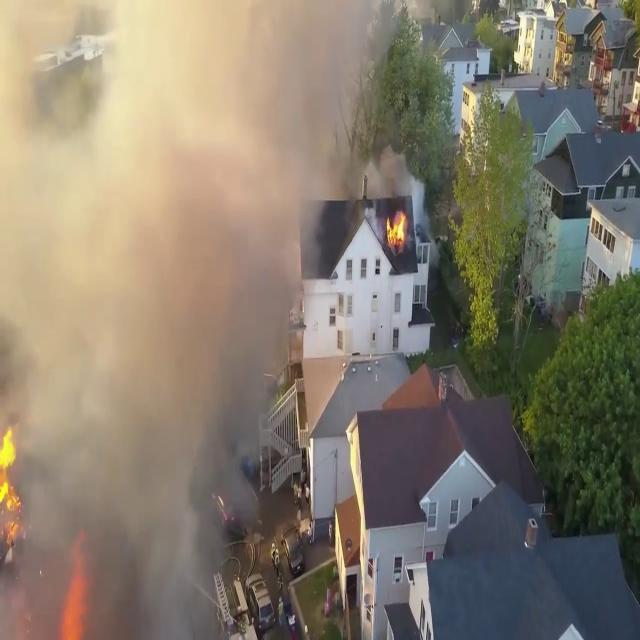Fire: (0, 422, 31, 550), (384, 206, 408, 250)
Smoke: (1, 0, 276, 609)
